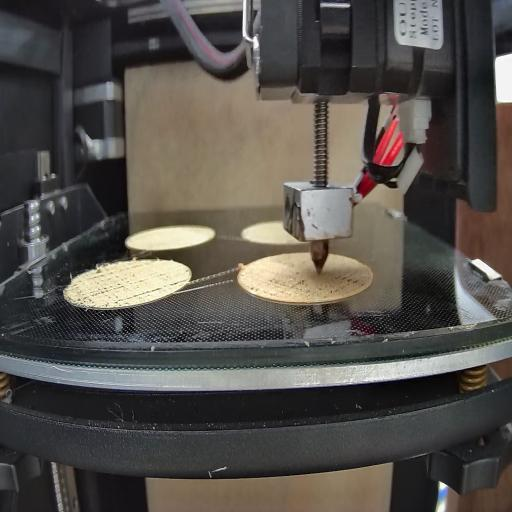under_extrusion: (70, 266, 165, 309), (246, 272, 372, 298), (169, 274, 187, 290)
